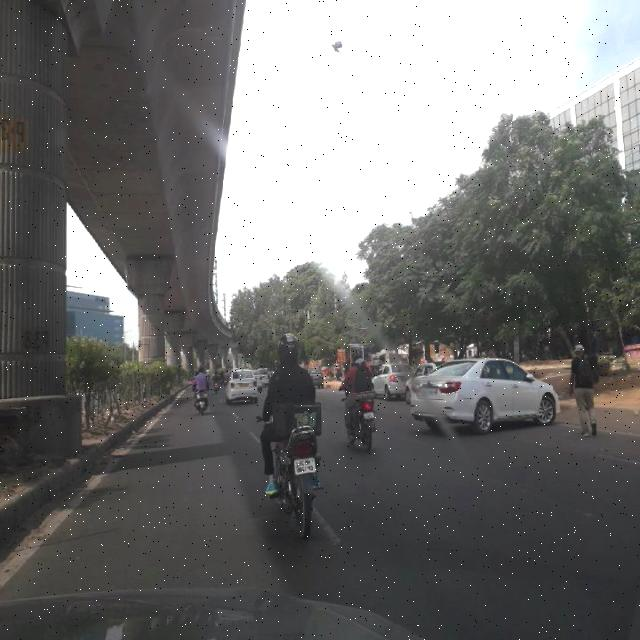D44: (470, 468, 598, 518)
